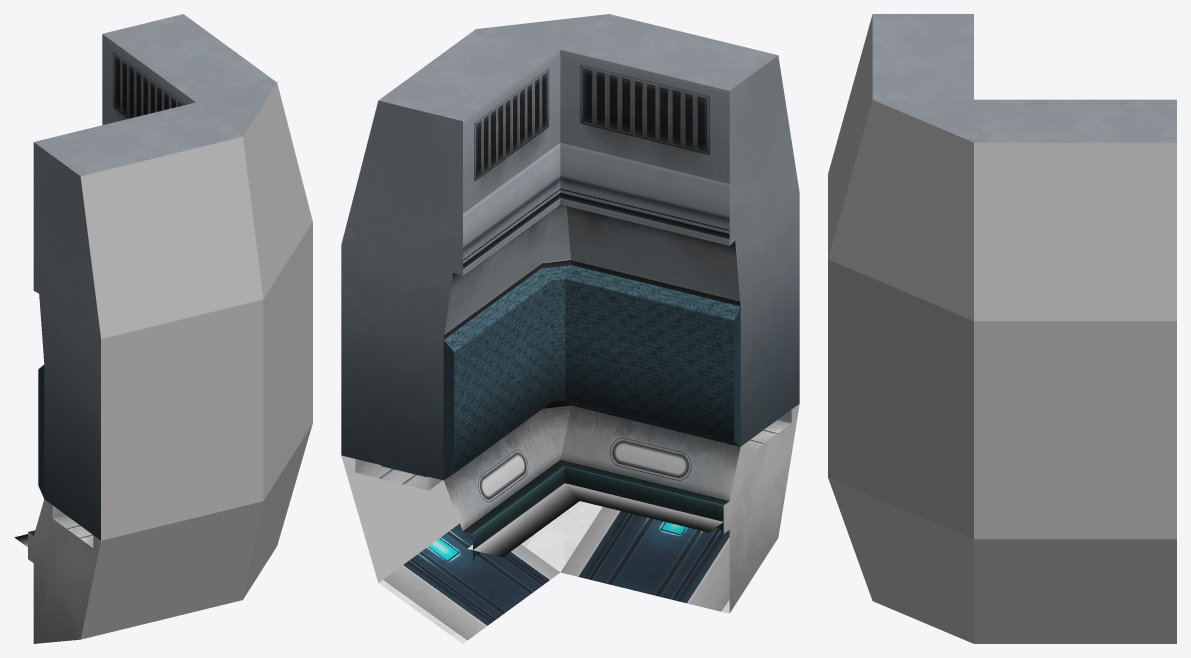
Rendered from Bar_ExteriorCorner.fbx.
3 renders of one model, left to right at view 1: azimuth 30°, elevation 25°; view 2: azimuth 150°, elevation 25°; view 3: azimuth 270°, elevation 25°, orthographic. The views are drawn at different scales.
Parts seen in each view (by area): view 1: ExteriorCorner_UP, ExteriorCorner_DOWN; view 2: ExteriorCorner_UP, ExteriorCorner_DOWN; view 3: ExteriorCorner_UP, ExteriorCorner_DOWN.
Part boxes in pixels (x1,y1,x2,y2): ExteriorCorner_UP: (33, 14, 312, 540); ExteriorCorner_DOWN: (14, 424, 312, 643); ExteriorCorner_UP: (341, 14, 799, 480); ExteriorCorner_DOWN: (341, 404, 799, 643); ExteriorCorner_UP: (828, 14, 1176, 539); ExteriorCorner_DOWN: (828, 478, 1176, 643).
Size of the model in its own units: 1.72 by 2.95 by 1.72.
